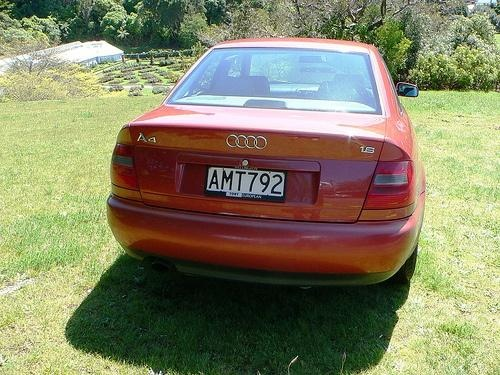car: (109, 37, 421, 291)
